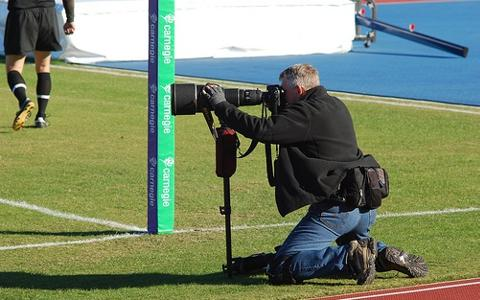person: (203, 64, 427, 285)
